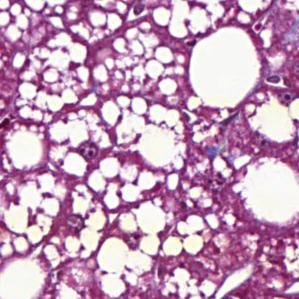steatosis: (182, 29, 262, 105)
